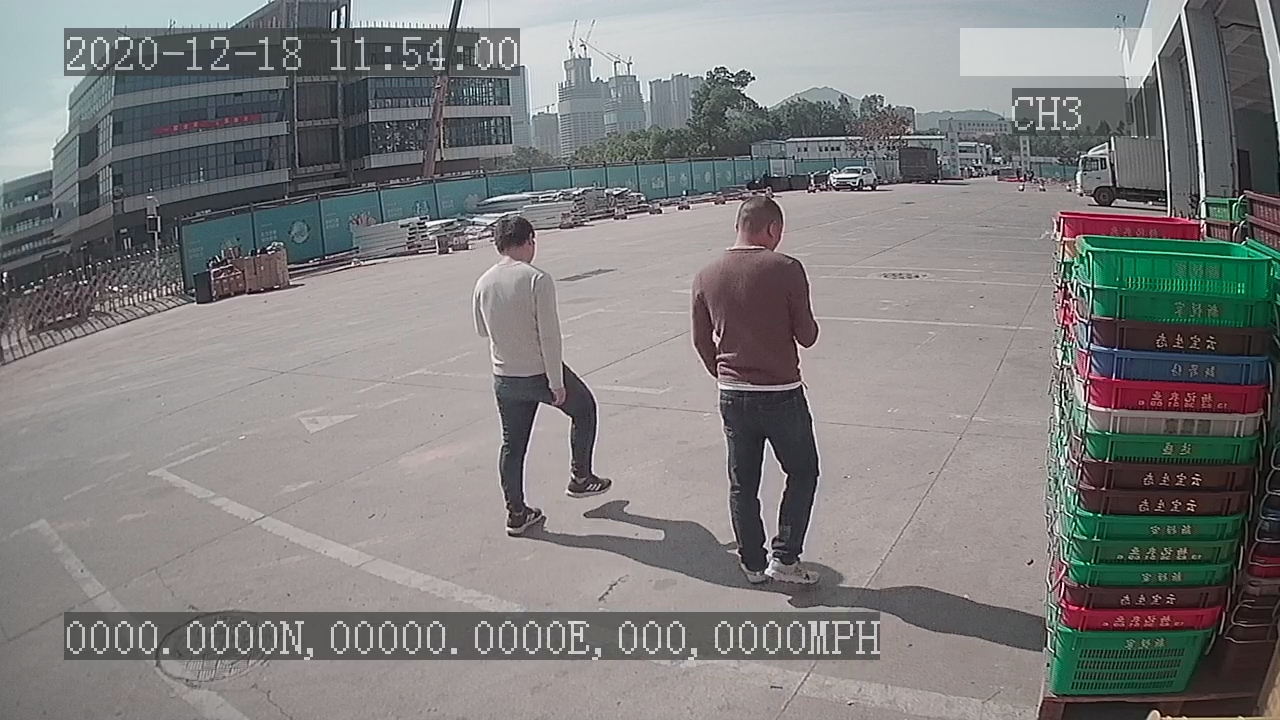person: (686, 185, 834, 590), (465, 211, 618, 547)
